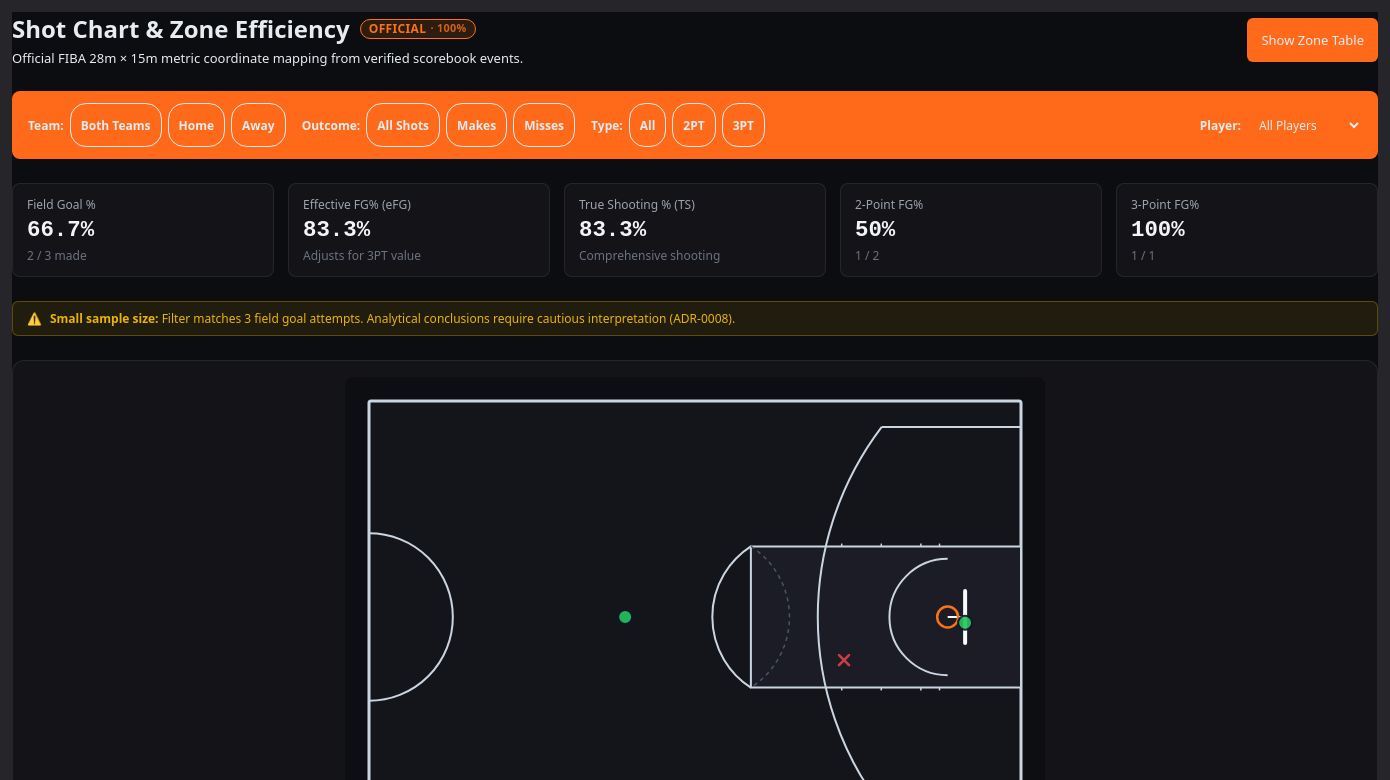
Test: ShotChartView component (WP-3.4) › filters shots by outcome (Makes only)
Click the button "Makes".
click(477, 125)  # box [446, 103, 507, 147]
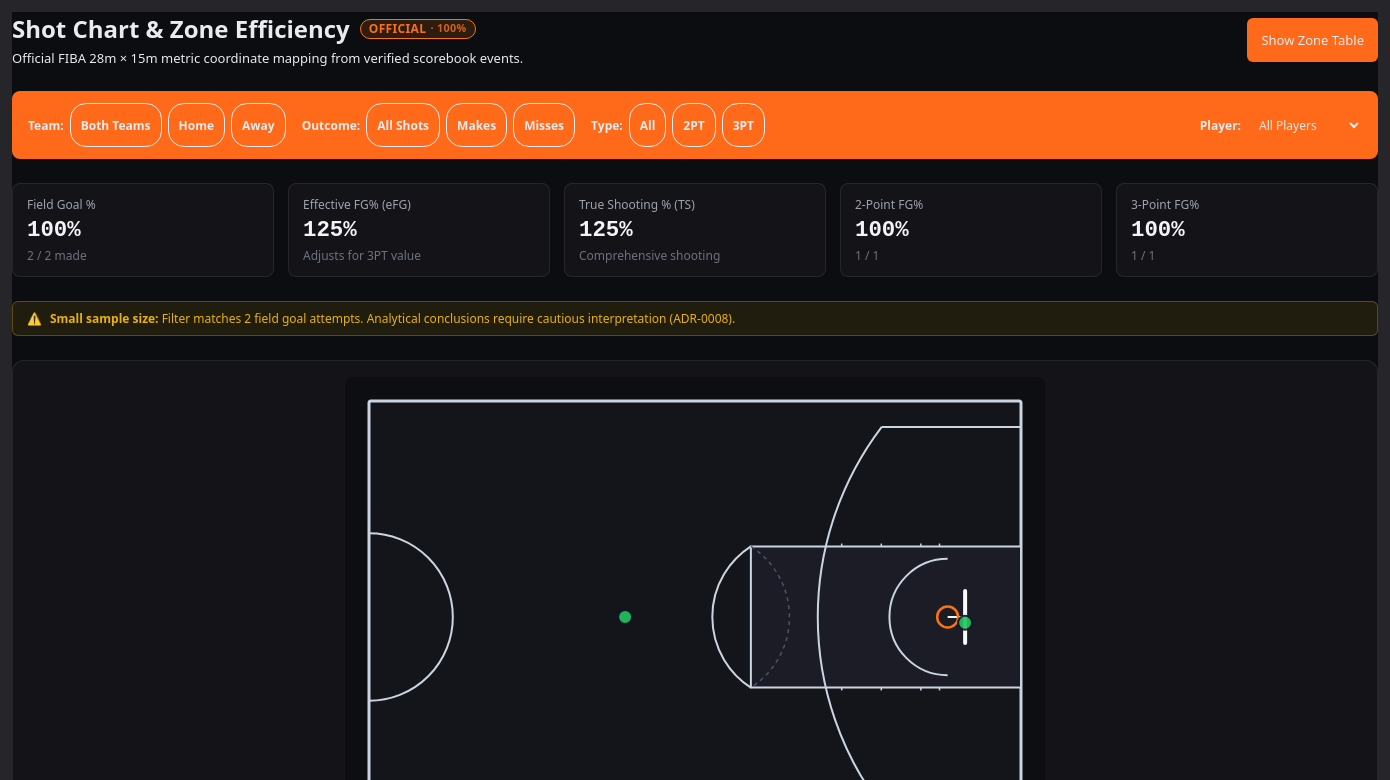
Now the text "2 / 2 made" is shown, box [27, 247, 87, 264]
